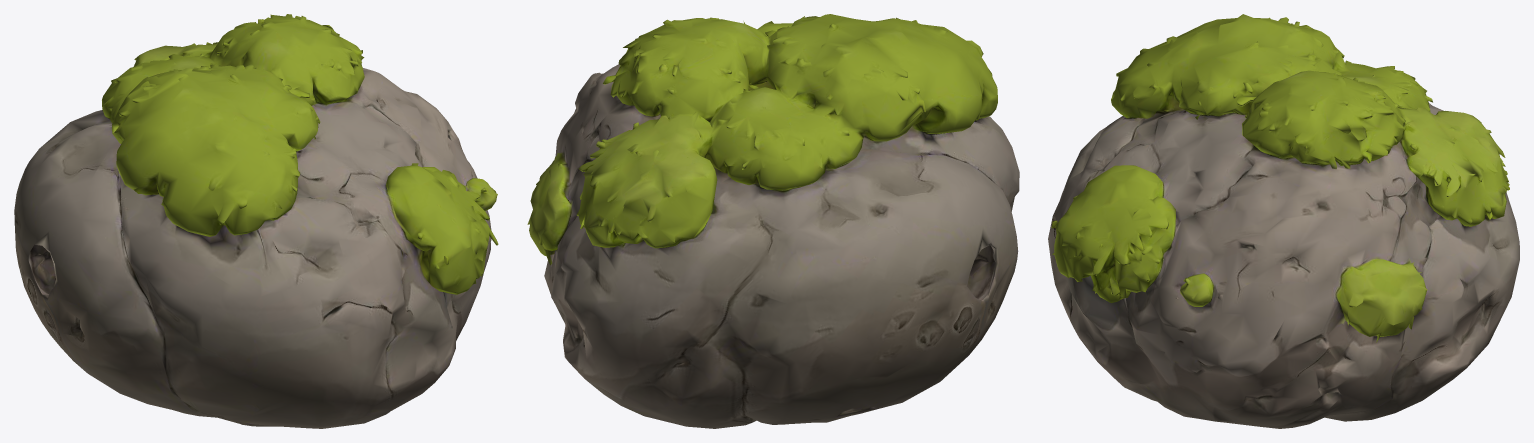
Rendered from prop_rock.glb.
The picture shows the model from 3 angles, left to right: view 1: azimuth 30°, elevation 25°; view 2: azimuth 150°, elevation 25°; view 3: azimuth 270°, elevation 25°; orthographic projection. The views are drawn at different scales.
Parts seen in each view (by area): view 1: tripo_node_8187a309-c9e0-4975-9047-75674dbf5864; view 2: tripo_node_8187a309-c9e0-4975-9047-75674dbf5864; view 3: tripo_node_8187a309-c9e0-4975-9047-75674dbf5864.
Part boxes in pixels (box(x1,y1,x2,y2)): tripo_node_8187a309-c9e0-4975-9047-75674dbf5864: box(14, 14, 498, 428); tripo_node_8187a309-c9e0-4975-9047-75674dbf5864: box(527, 14, 1019, 428); tripo_node_8187a309-c9e0-4975-9047-75674dbf5864: box(1048, 14, 1519, 428).
Bounding box in the file's own units: 0.9602 × 0.7649 × 0.9997.
Materials: 1 (1 with a texture image).
